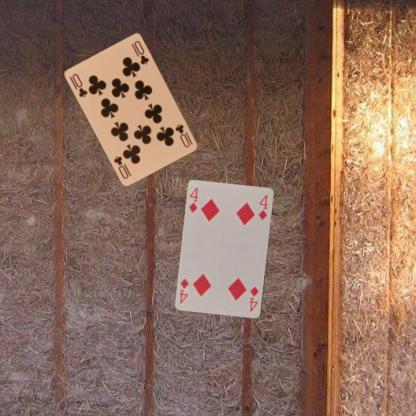10c: (172, 122, 194, 148), (70, 71, 89, 99)
4d: (247, 284, 260, 313), (187, 185, 199, 214)
